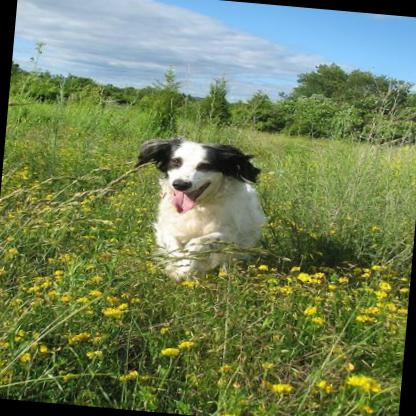English_setter: (120, 130, 274, 289)
